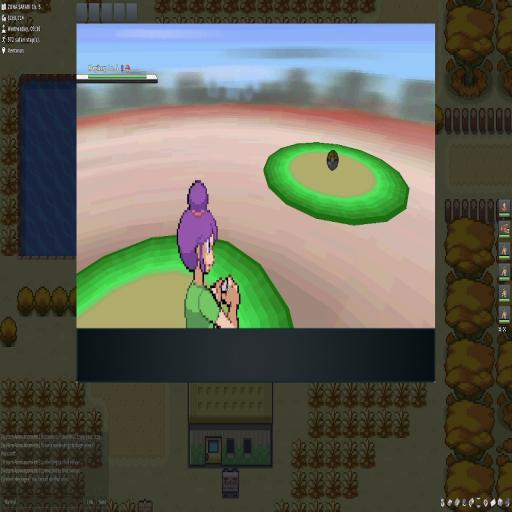SUCESSFULCAPTURE: (326, 149, 339, 170)
